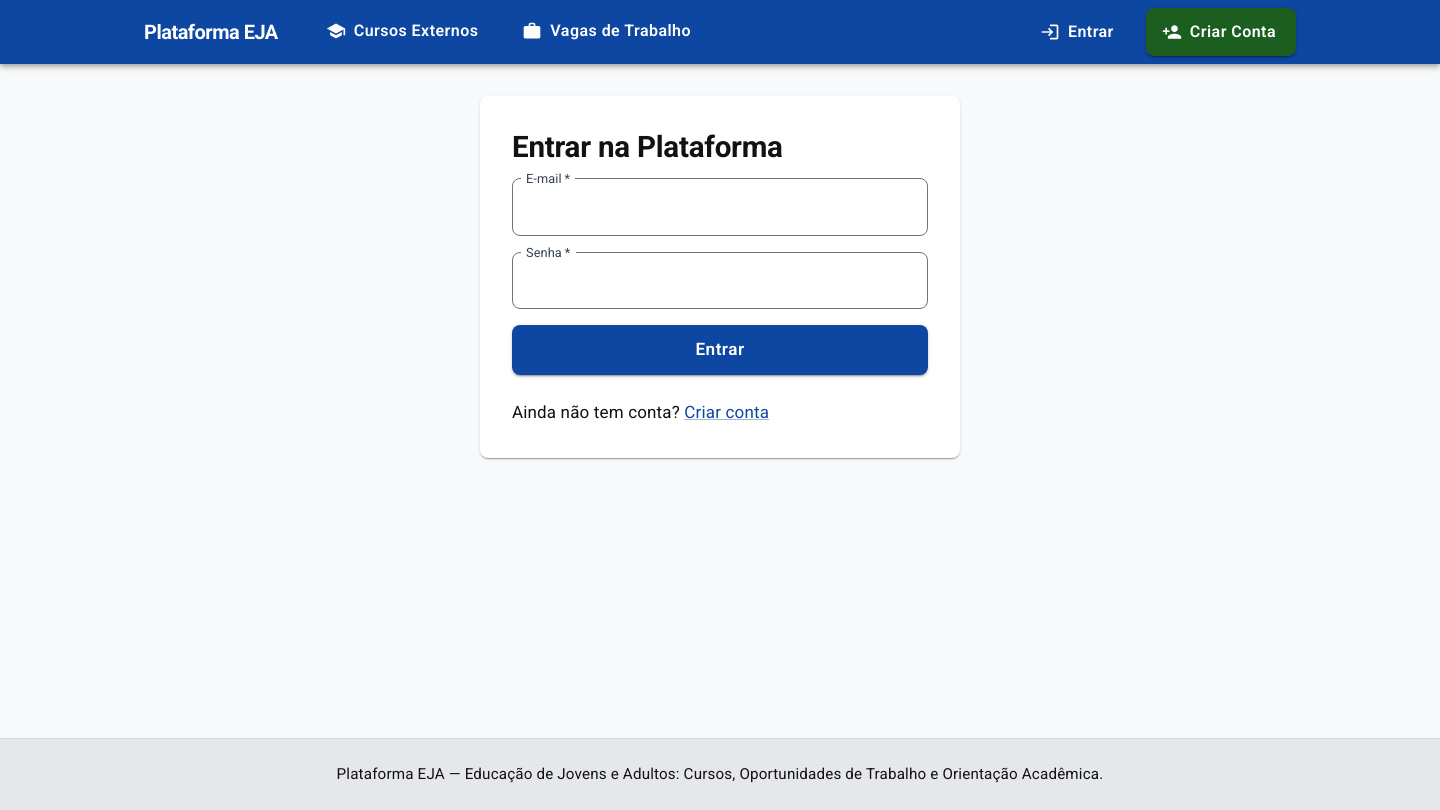
Test case: após o login, volta para a página protegida que foi pedida
Type "ana@example.com" into the field labelled "E-mail *".
click(720, 207); type("ana@example.com")  # box [512,178,928,236]
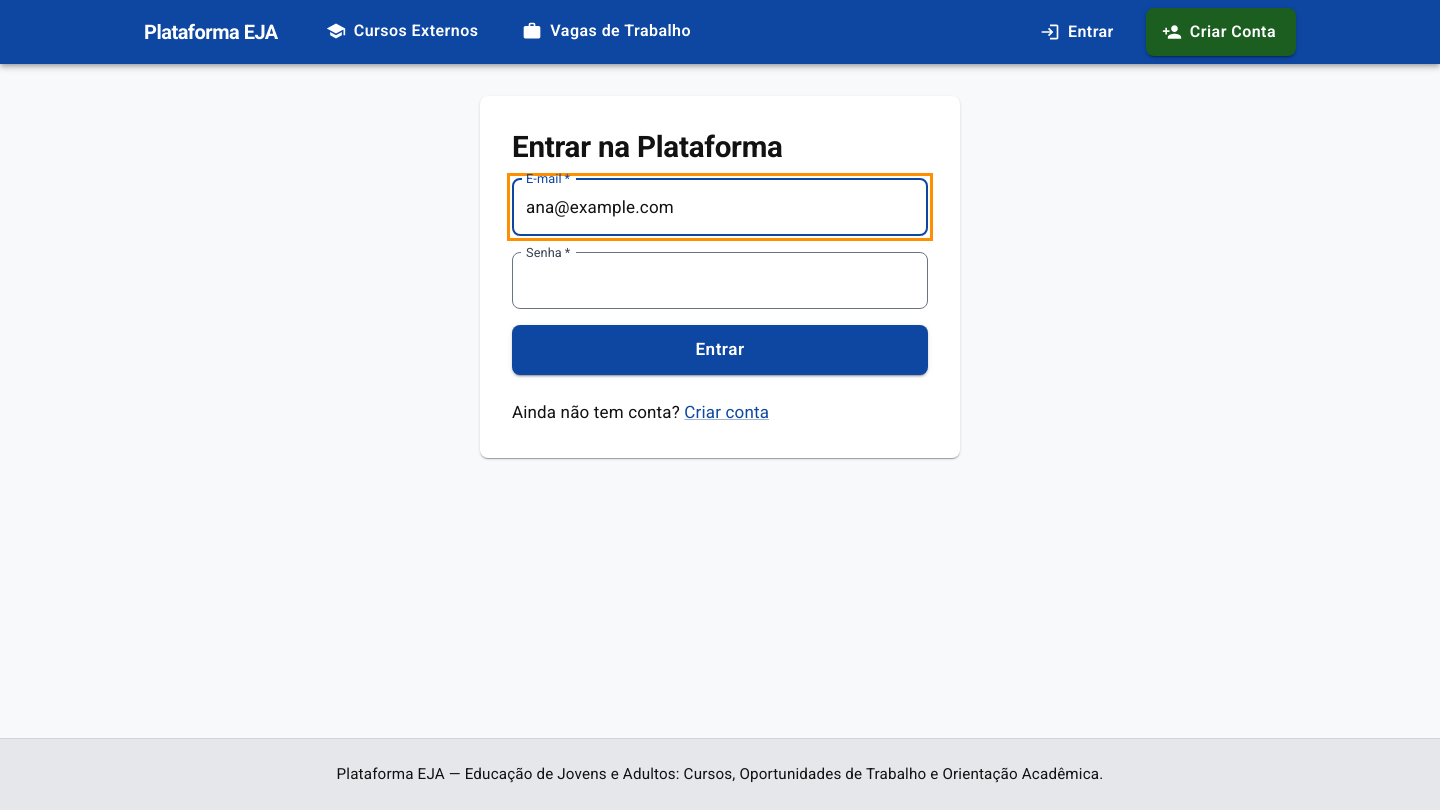
Type "senha-bem-longa" into the password field labelled "Senha *".
click(720, 280); type("senha-bem-longa")  # box [512,252,928,309]
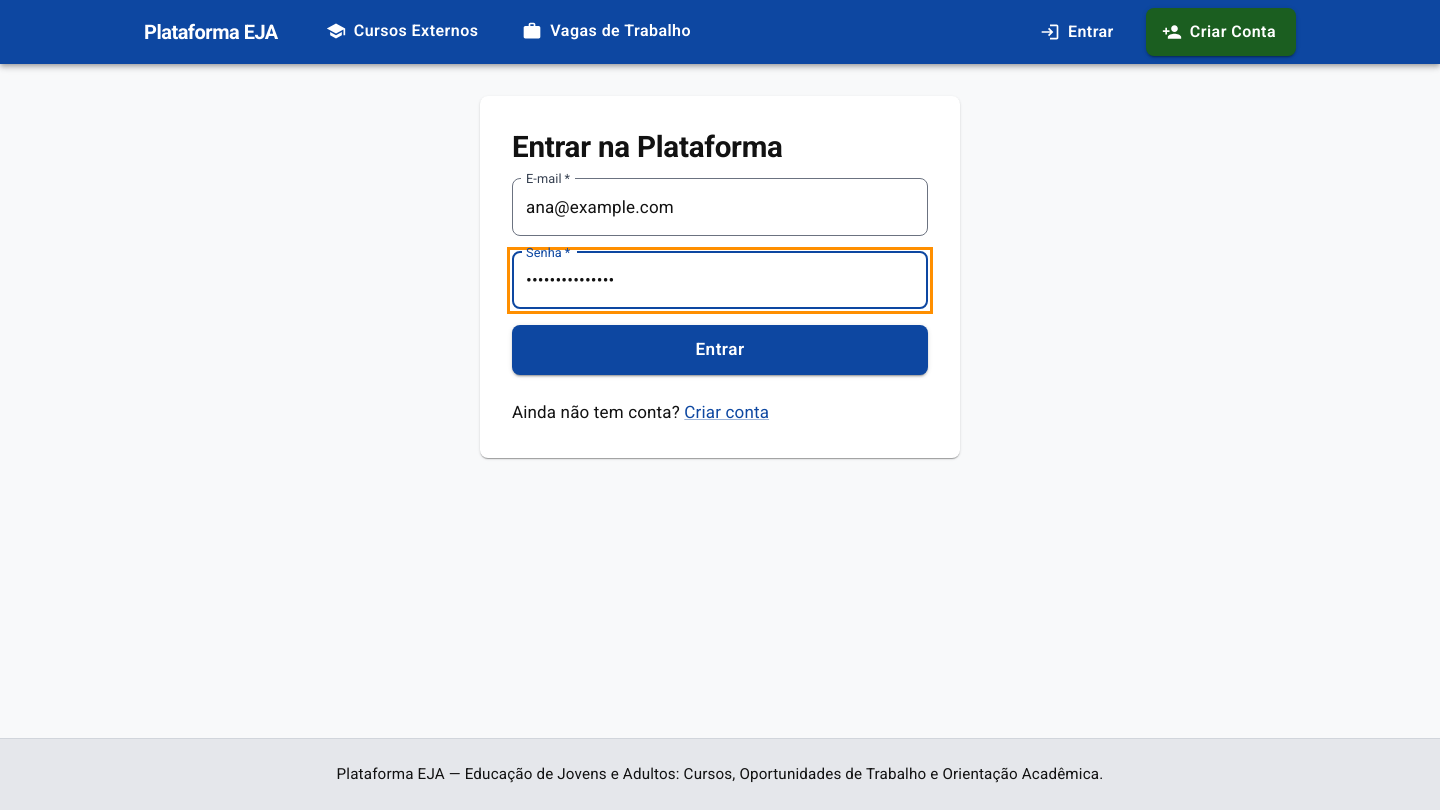
Click the button "Entrar".
click(720, 350)  # box [512,325,928,375]
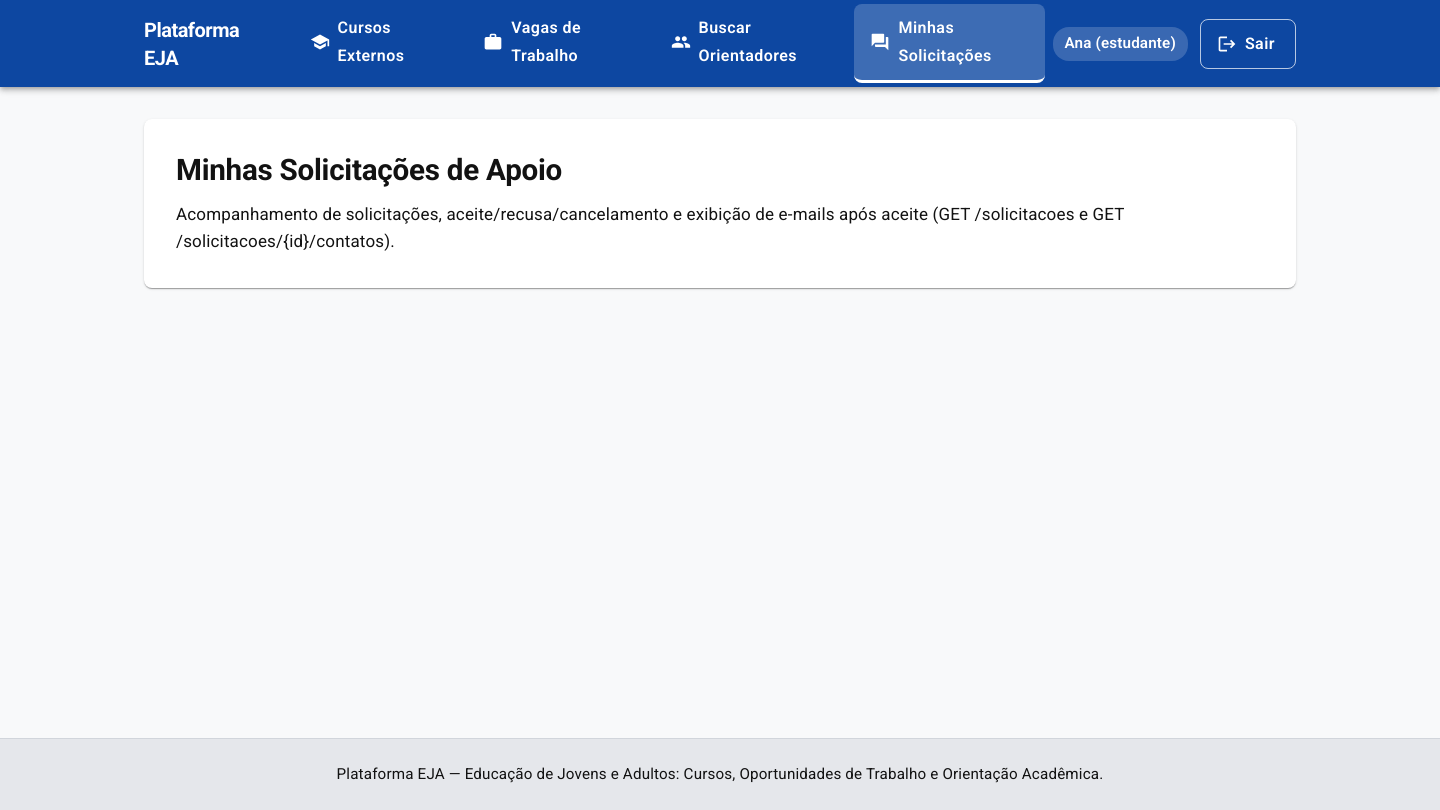
expect the heading "Minhas Solicitações de Apoio" is shown: met, box [176,153,562,187]
